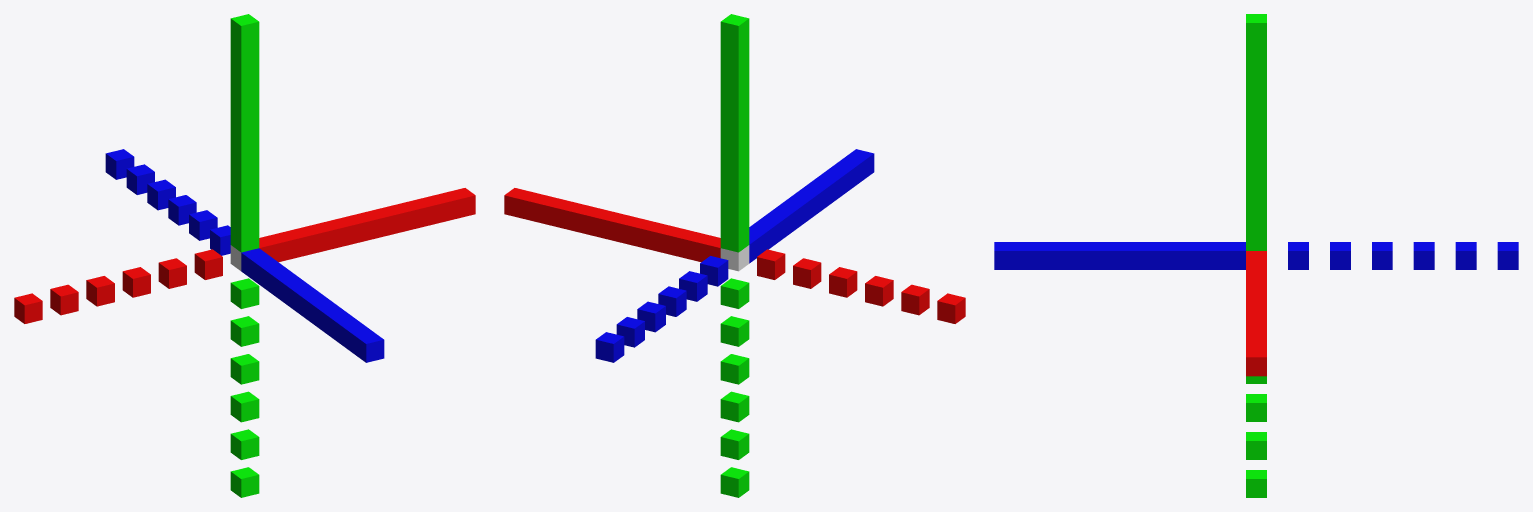
The model's file is debugAxis.obj.
3 renders of one model, left to right at view 1: azimuth 30°, elevation 25°; view 2: azimuth 150°, elevation 25°; view 3: azimuth 270°, elevation 25°, orthographic.
Visible parts, largest first — view 1: Cube.001, Cube.002, Cube; view 2: Cube.001, Cube.002, Cube, Cube.003; view 3: Cube, Cube.001, Cube.002.
Boxes of the visible parts, left/top/right/bottom form: Cube.001: left=230, top=14, right=259, bottom=497; Cube.002: left=14, top=188, right=475, bottom=323; Cube: left=105, top=149, right=384, bottom=362; Cube.001: left=720, top=14, right=749, bottom=497; Cube.002: left=504, top=188, right=965, bottom=323; Cube: left=595, top=149, right=874, bottom=362; Cube.003: left=720, top=245, right=749, bottom=271; Cube: left=994, top=242, right=1518, bottom=269; Cube.001: left=1246, top=14, right=1266, bottom=497; Cube.002: left=1246, top=251, right=1266, bottom=376.
Bounding box in the file's own units: 0.25 × 0.25 × 0.25.
